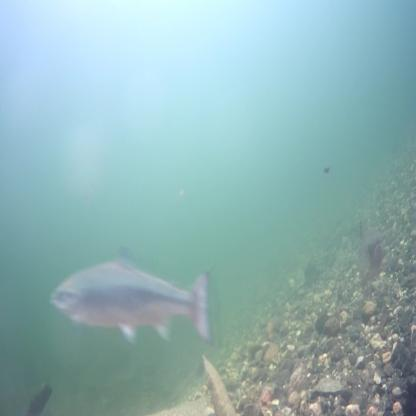salmon: (46, 240, 218, 350), (354, 212, 388, 296)
